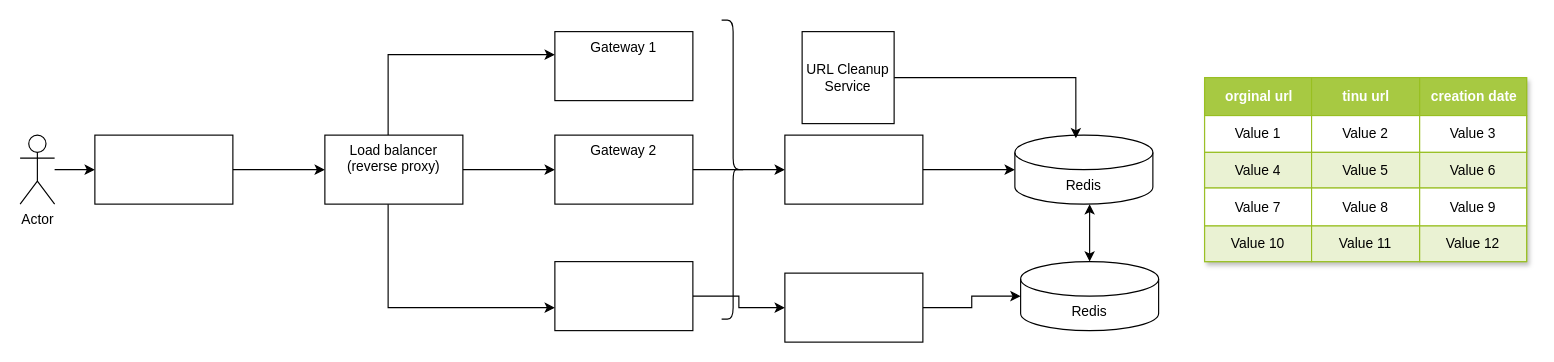
The diagram is 1554 pixels wide and 362 high, and some of its shapes have lost their labels. Each missing label, with the centre of its shape:
"Gateway3" goes at pixel 623 295.
"UI" goes at pixel 163 169.
"URL Retrieval Service" goes at pixel 853 307.
"URL Shortner Service" goes at pixel 853 169.
